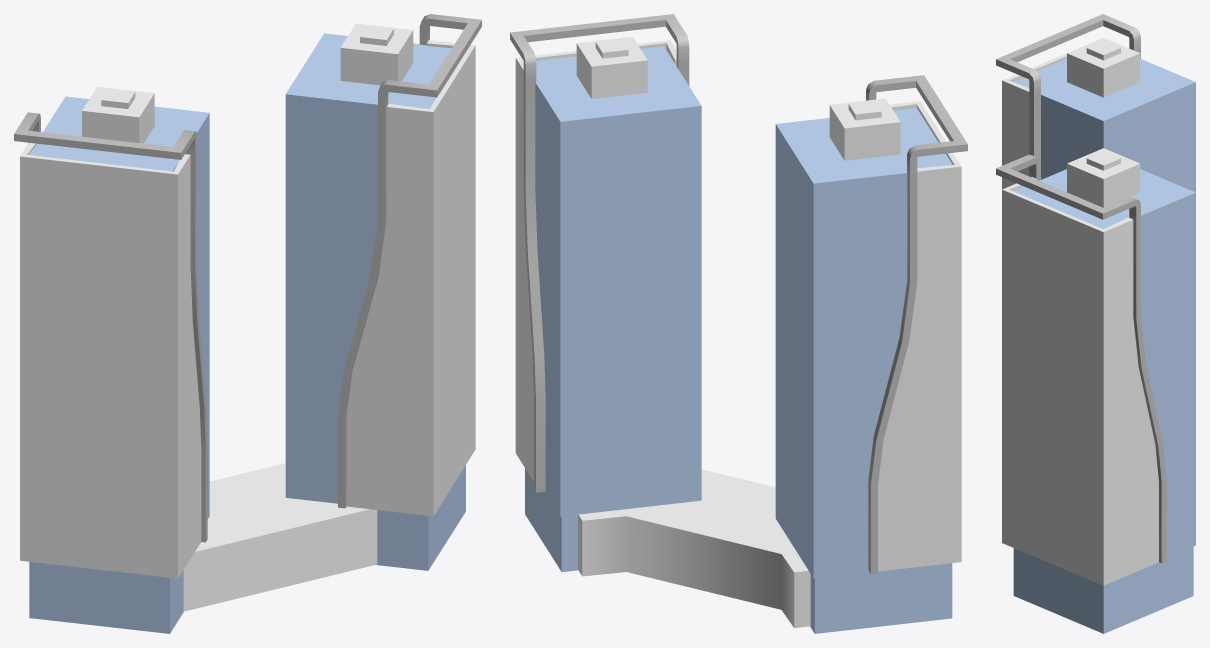
The picture shows the model from 3 angles, left to right: view 1: azimuth 30°, elevation 25°; view 2: azimuth 150°, elevation 25°; view 3: azimuth 270°, elevation 25°; orthographic projection. The views are drawn at different scales.
Visible parts, largest first — view 1: White, Blue, Gray; view 2: Blue, White, Gray; view 3: White, Blue, Gray.
Part boxes in pixels (bbox=[...]): White: bbox=[20, 23, 475, 611]; Blue: bbox=[29, 33, 465, 633]; Gray: bbox=[14, 14, 481, 542]; Blue: bbox=[525, 46, 952, 633]; White: bbox=[515, 36, 961, 627]; Gray: bbox=[510, 14, 967, 574]; White: bbox=[1002, 37, 1158, 585]; Blue: bbox=[1013, 59, 1195, 633]; Gray: bbox=[996, 14, 1166, 563].
Size of the model in its own units: 2.58 by 2.64 by 1.09.
